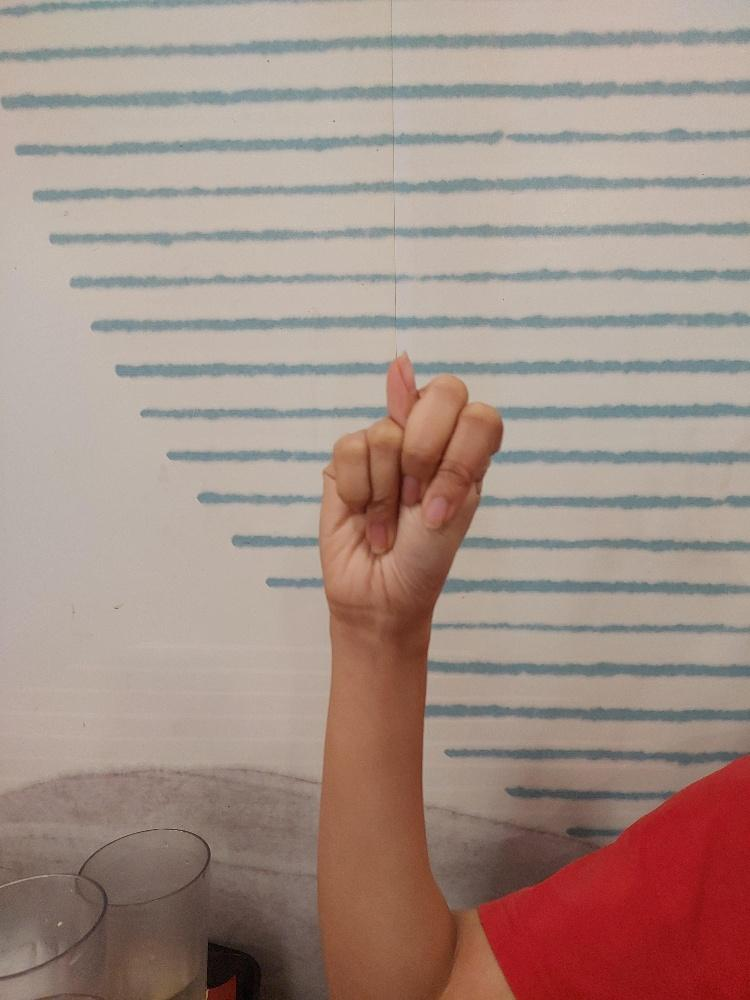n: (316, 347, 506, 629)
